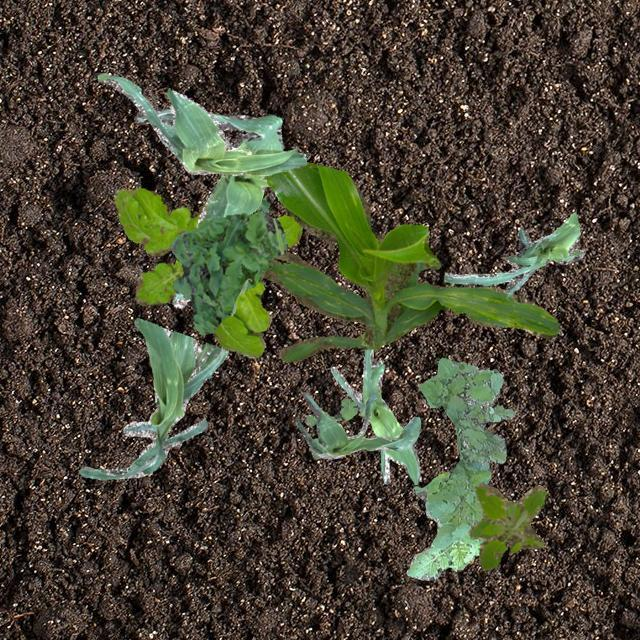crop: (258, 162, 558, 362), (134, 108, 282, 308), (77, 316, 227, 478), (94, 72, 306, 176), (330, 348, 420, 483), (442, 212, 584, 296), (294, 390, 420, 458)
weed: (114, 185, 302, 358), (406, 356, 514, 580), (170, 194, 286, 334), (468, 482, 546, 570), (304, 398, 358, 458)
